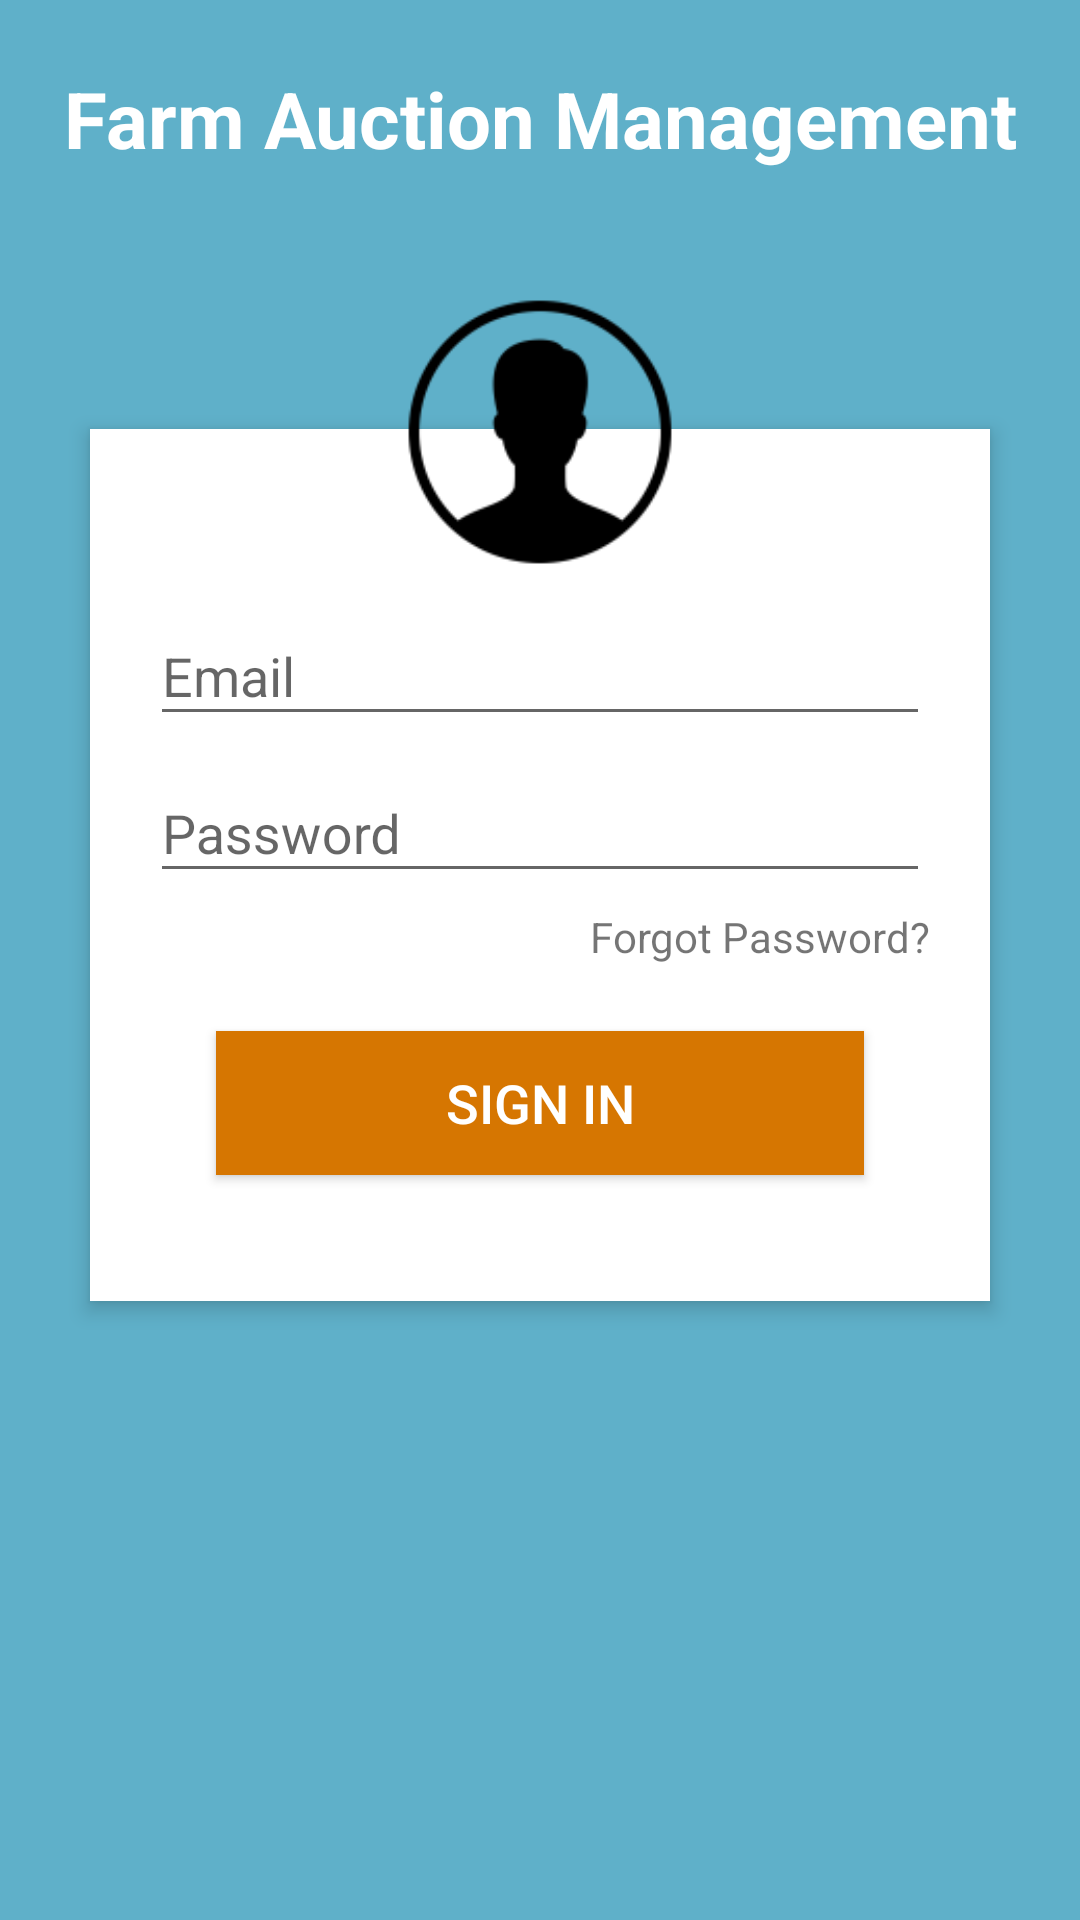

Icon click points for this 1080w x 1920h phone screenshot, format (x,y):
profile: (540,432)
